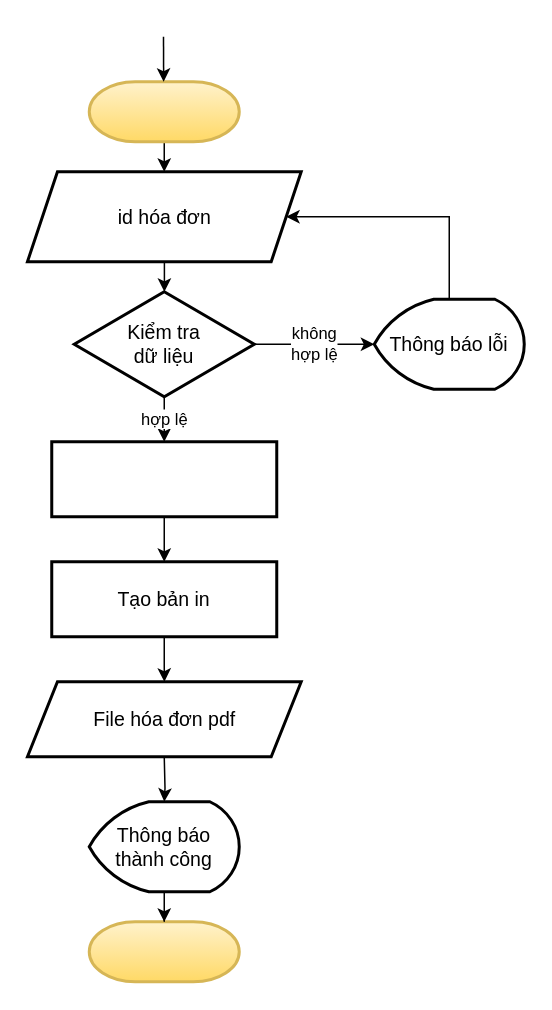
Some shapes in this 552 by 1010 pixel diagram are drawn without their labels. Here are the shapes that lost their labels. From the top down, the box of each, then its label:
(87, 80, 240, 142): Bắt đầu
(50, 440, 278, 518): Lấy chi tiết hóa đơn
(87, 920, 240, 982): Kết thúc
